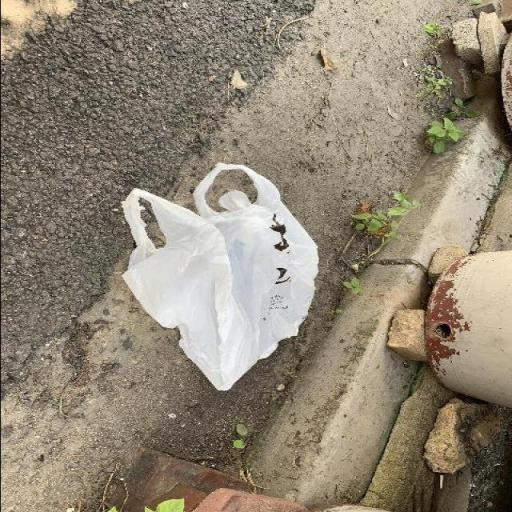plastic-bag: (113, 159, 313, 392)
